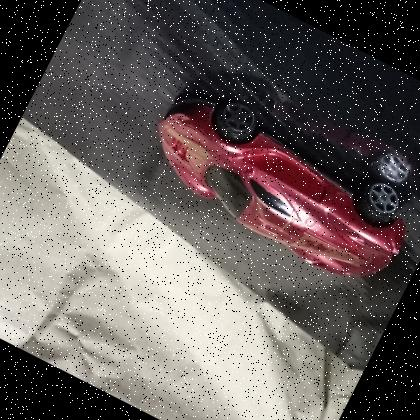Car: (125, 66, 420, 305)
